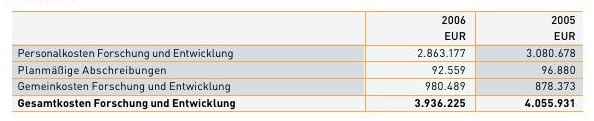table: (0, 0, 594, 121)
